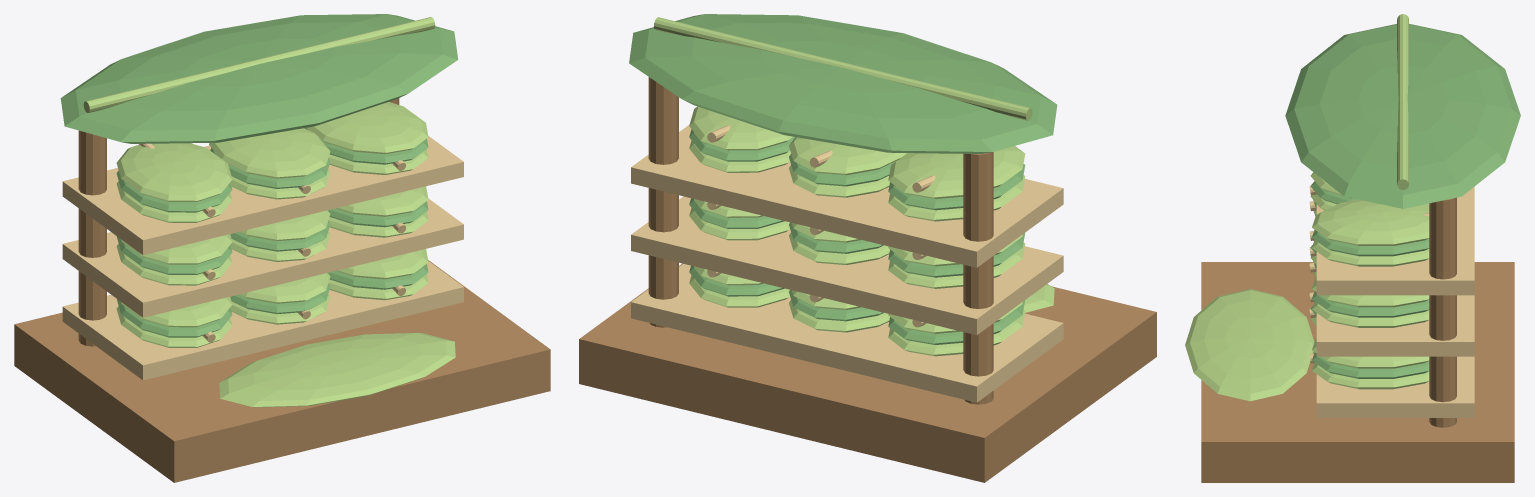
The model's file is LeafDepot3.fbx.
3 views of the same model, side by side, from view 1: azimuth 30°, elevation 25°; view 2: azimuth 150°, elevation 25°; view 3: azimuth 270°, elevation 25° (orthographic). The views are drawn at different scales.
Visible parts, largest first — view 1: Depot wooden base.002, Leaf depot awning.002, Sorting shelf.005, Sorting shelf.004, Sorting shelf.003, Leaf sorting mat.002, Stacked leaf.047, Stacked leaf.050, Stacked leaf.053, Rack post.004, Awning vein.002, Stacked leaf.029 (+23 smaller); view 2: Depot wooden base.002, Leaf depot awning.002, Sorting shelf.005, Sorting shelf.003, Sorting shelf.004, Rack post.004, Rack post.005, Stacked leaf.047, Awning vein.002, Stacked leaf.050, Stacked leaf.053, Stacked leaf.036 (+17 smaller); view 3: Depot wooden base.002, Leaf depot awning.002, Leaf sorting mat.002, Sorting shelf.005, Sorting shelf.004, Sorting shelf.003, Rack post.005, Stacked leaf.053, Awning vein.002, Stacked leaf.042, Stacked leaf.052, Stacked leaf.051 (+6 smaller).
Boxes of the visible parts, bbox=[...] form: Depot wooden base.002: bbox=[14, 260, 550, 482]; Leaf depot awning.002: bbox=[60, 14, 458, 143]; Sorting shelf.005: bbox=[62, 136, 463, 255]; Sorting shelf.004: bbox=[62, 198, 463, 317]; Sorting shelf.003: bbox=[62, 261, 463, 380]; Leaf sorting mat.002: bbox=[219, 333, 455, 407]; Stacked leaf.047: bbox=[116, 143, 232, 201]; Stacked leaf.050: bbox=[209, 128, 330, 178]; Stacked leaf.053: bbox=[306, 102, 428, 154]; Rack post.004: bbox=[78, 130, 106, 346]; Awning vein.002: bbox=[83, 17, 435, 112]; Stacked leaf.029: bbox=[120, 296, 232, 327]; Depot wooden base.002: bbox=[579, 263, 1156, 482]; Leaf depot awning.002: bbox=[629, 14, 1057, 153]; Sorting shelf.005: bbox=[631, 124, 1063, 267]; Sorting shelf.003: bbox=[631, 264, 1063, 402]; Sorting shelf.004: bbox=[631, 196, 1063, 335]; Rack post.004: bbox=[963, 152, 993, 404]; Rack post.005: bbox=[648, 77, 678, 327]; Stacked leaf.047: bbox=[888, 146, 1025, 198]; Awning vein.002: bbox=[654, 17, 1032, 120]; Stacked leaf.050: bbox=[789, 137, 906, 175]; Stacked leaf.053: bbox=[689, 106, 792, 150]; Stacked leaf.036: bbox=[888, 242, 1025, 288]; Depot wooden base.002: bbox=[1201, 262, 1514, 482]; Leaf depot awning.002: bbox=[1285, 24, 1520, 208]; Leaf sorting mat.002: bbox=[1185, 289, 1314, 401]; Sorting shelf.005: bbox=[1316, 187, 1474, 295]; Sorting shelf.004: bbox=[1316, 295, 1474, 356]; Sorting shelf.003: bbox=[1316, 356, 1474, 417]; Rack post.005: bbox=[1429, 197, 1456, 427]; Stacked leaf.053: bbox=[1312, 199, 1429, 245]; Awning vein.002: bbox=[1397, 14, 1408, 189]; Stacked leaf.042: bbox=[1312, 301, 1429, 327]; Stacked leaf.052: bbox=[1312, 229, 1429, 256]; Stacked leaf.051: bbox=[1312, 240, 1429, 266].
Bounding box in the file's own units: 176 × 130 × 134.
